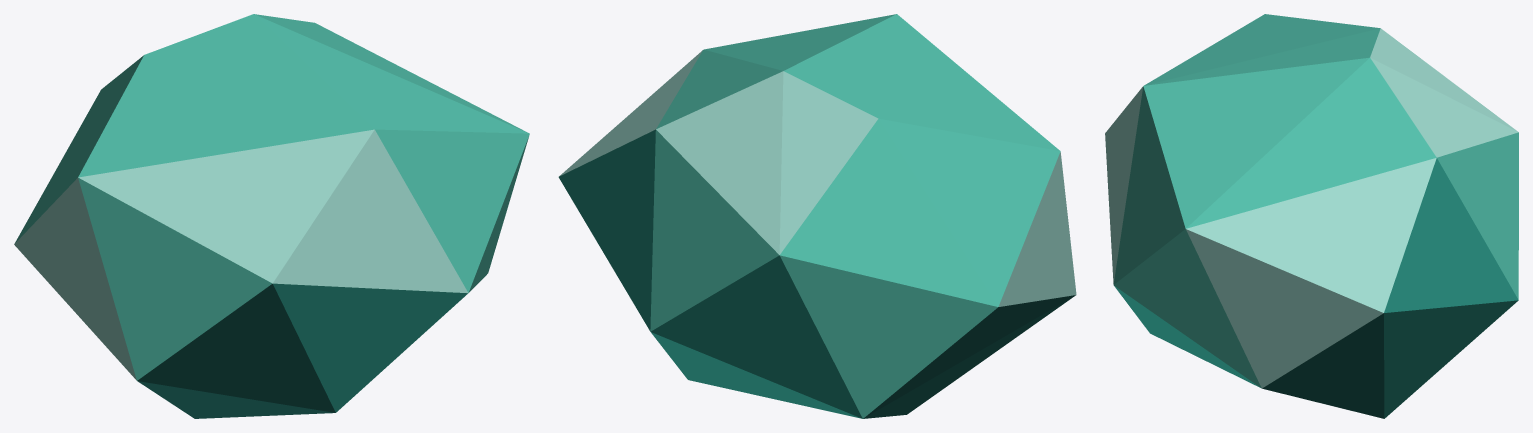
Rendered from mat_glowstone.glb.
The picture shows the model from 3 angles, left to right: view 1: azimuth 30°, elevation 25°; view 2: azimuth 150°, elevation 25°; view 3: azimuth 270°, elevation 25°; orthographic projection. The views are drawn at different scales.
Parts seen in each view (by area): view 1: mat_glowstone; view 2: mat_glowstone; view 3: mat_glowstone.
Part boxes in pixels (box(x1,y1,x2,y2)): mat_glowstone: box(14, 14, 529, 418); mat_glowstone: box(558, 14, 1076, 418); mat_glowstone: box(1105, 14, 1518, 418).
Bounding box in the file's own units: 0.2114 × 0.1583 × 0.1748.
